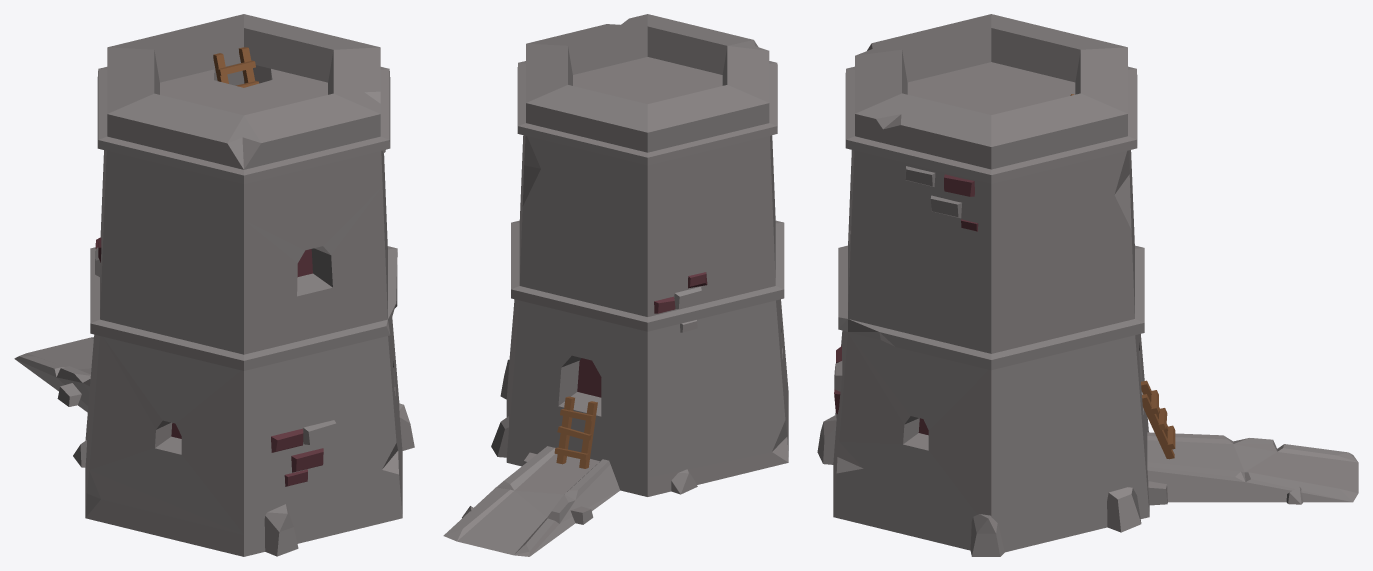
Rendered from tower-pirate-stone.fbx.
3 renders of one model, left to right at view 1: azimuth 30°, elevation 25°; view 2: azimuth 150°, elevation 25°; view 3: azimuth 270°, elevation 25°, orthographic. The views are drawn at different scales.
Parts seen in each view (by area): view 1: tower-pirate-stone; view 2: tower-pirate-stone; view 3: tower-pirate-stone.
Boxes of the visible parts, left/top/right/bottom form: tower-pirate-stone: left=14, top=14, right=414, bottom=556; tower-pirate-stone: left=443, top=14, right=788, bottom=556; tower-pirate-stone: left=817, top=14, right=1358, bottom=556.
Bounding box in the file's own units: 5.33 × 6.5 × 7.83.
